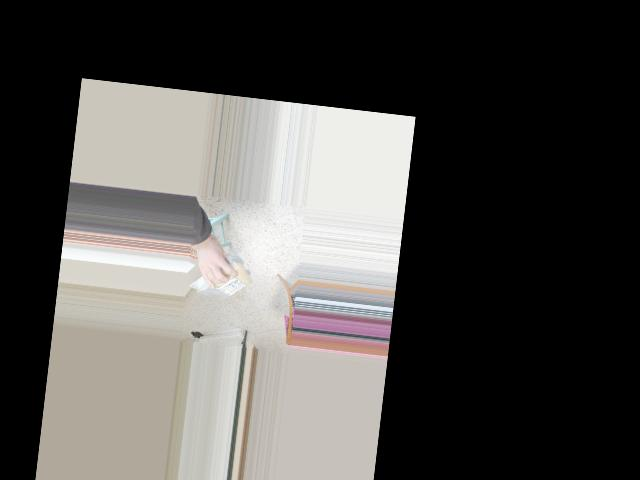cheese: (188, 262, 260, 300)
